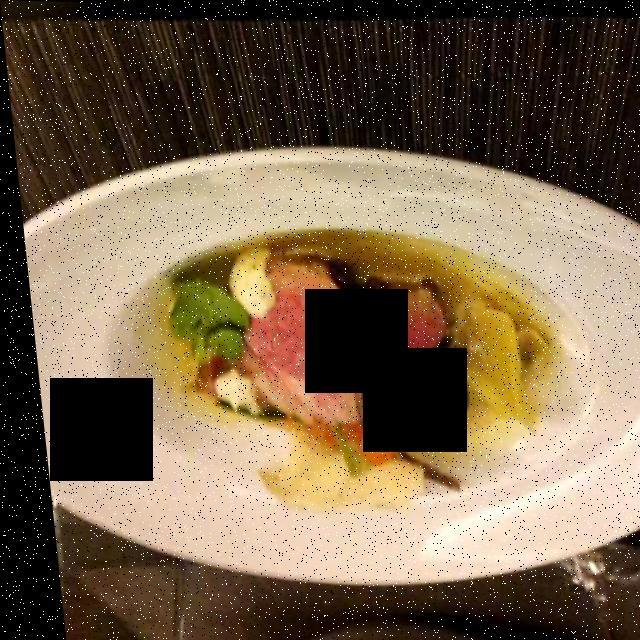meat: (233, 251, 428, 428)
sauce: (123, 214, 550, 457)
